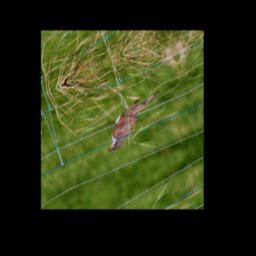Cuckoo: (96, 84, 171, 157)
